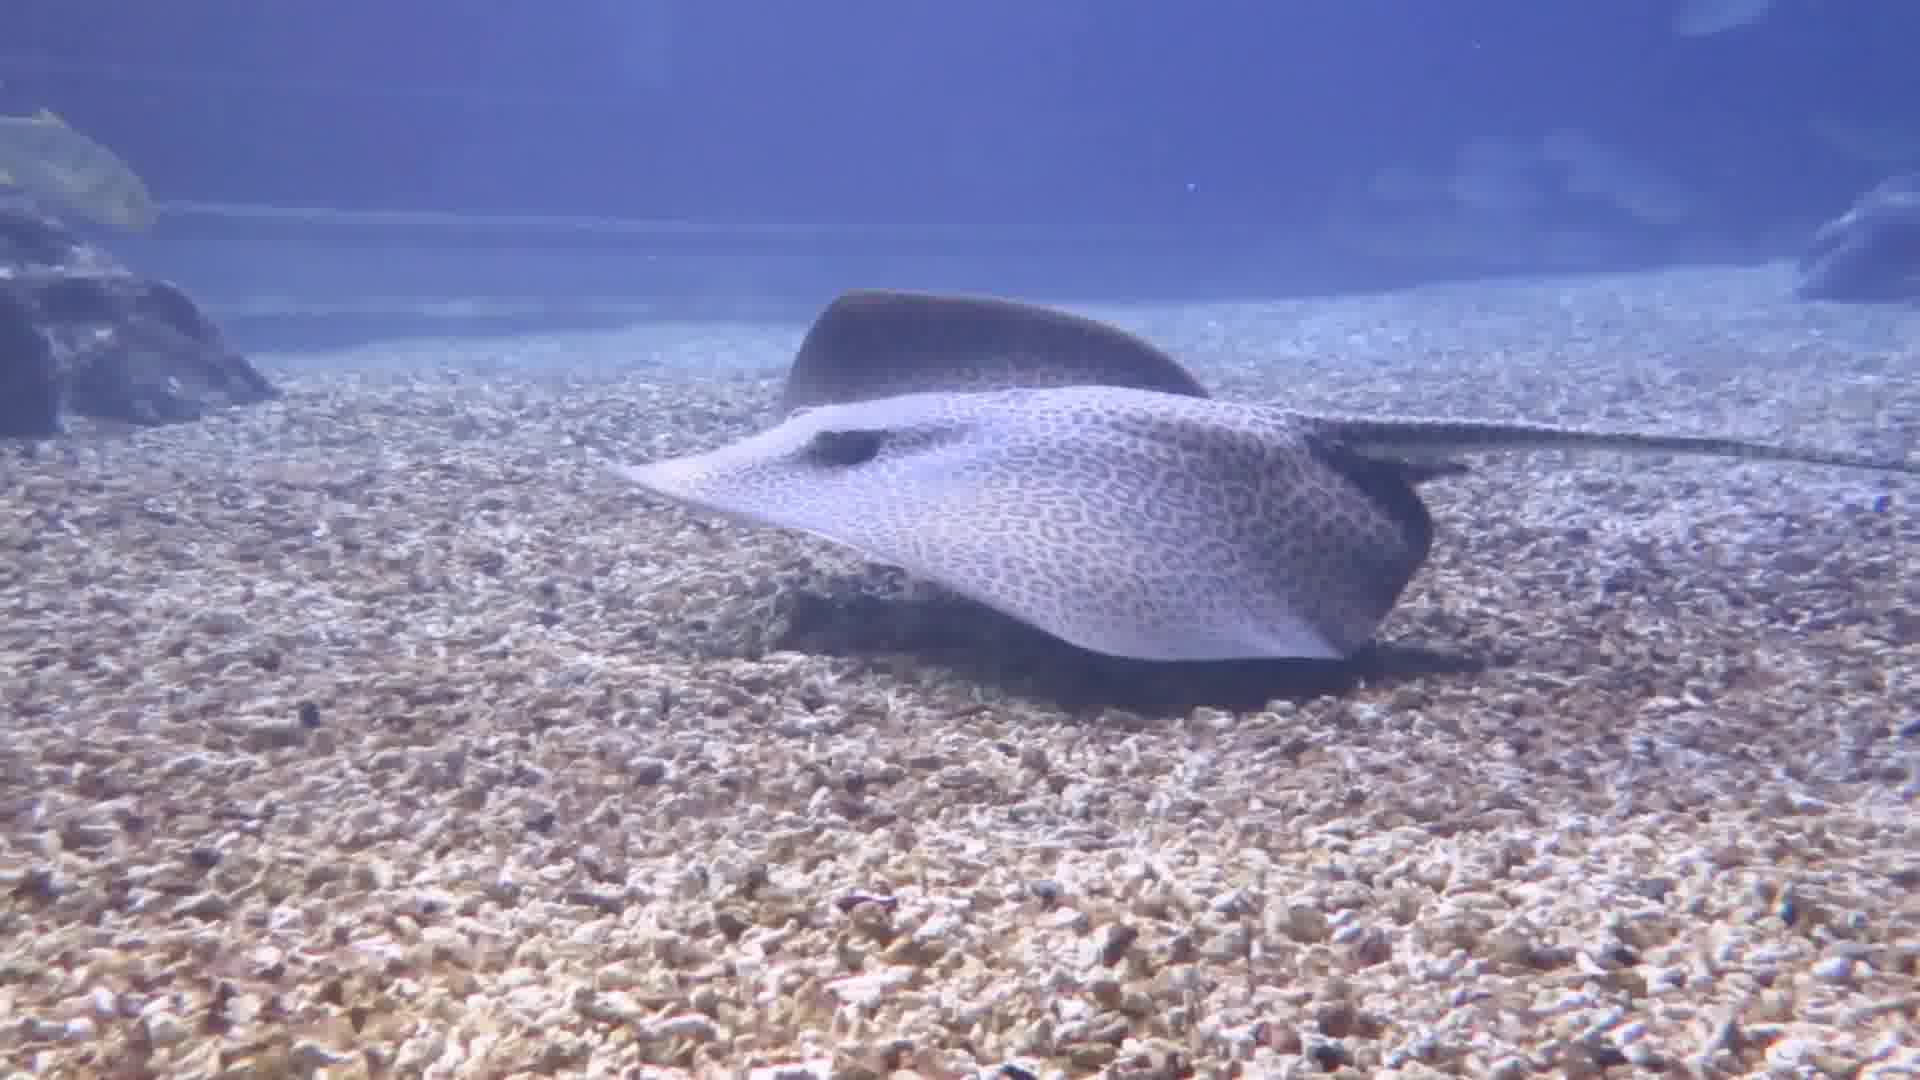Himantura uarnak: (545, 231, 1920, 709)
